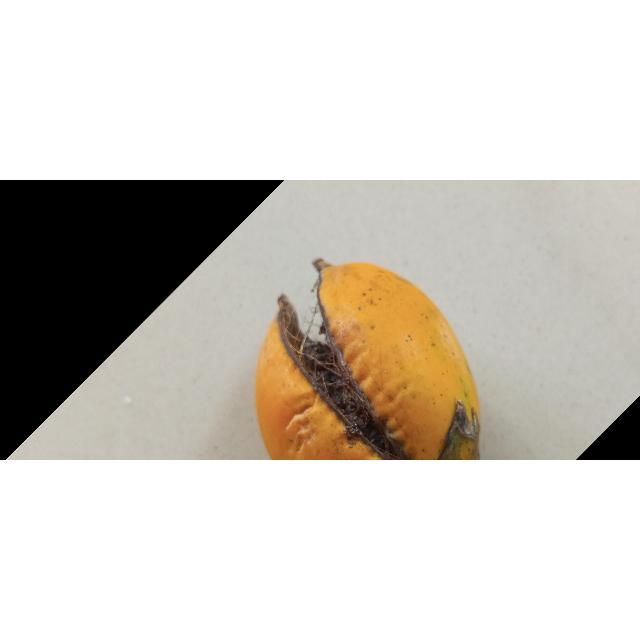damaged: (255, 261, 482, 461)
